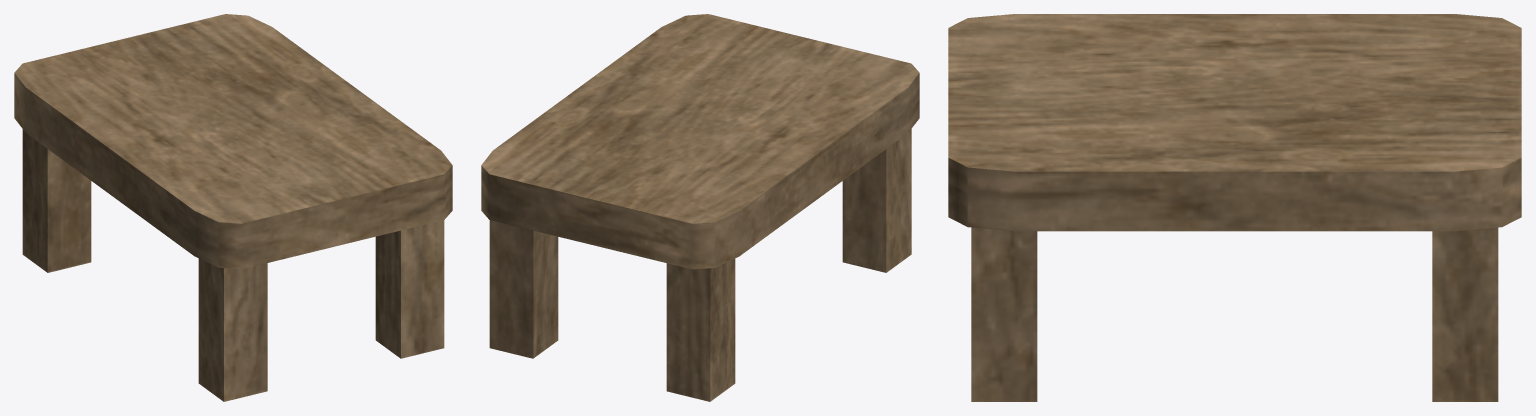
File: sb_obj_indoor012_BlackSmith03.fbx
3 renders of one model, left to right at view 1: azimuth 30°, elevation 25°; view 2: azimuth 150°, elevation 25°; view 3: azimuth 270°, elevation 25°, orthographic. The views are drawn at different scales.
Visible parts, largest first — view 1: sb_obj_indoor012_BlackSmith03; view 2: sb_obj_indoor012_BlackSmith03; view 3: sb_obj_indoor012_BlackSmith03.
Boxes of the visible parts, x1,y1,x2,y2 form: sb_obj_indoor012_BlackSmith03: (14, 14, 452, 401); sb_obj_indoor012_BlackSmith03: (481, 14, 919, 401); sb_obj_indoor012_BlackSmith03: (948, 14, 1521, 401).
Size of the model in its own units: 0.5836 by 0.4125 by 0.8972.
